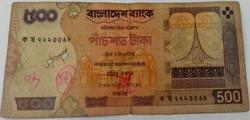500 taka: (12, 4, 245, 108)
